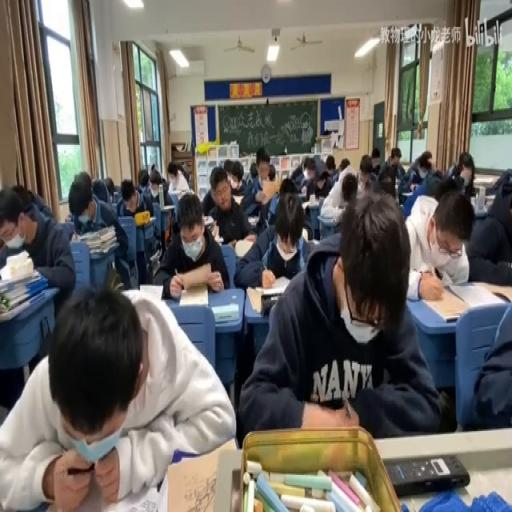calculator: (165, 445, 229, 512), (448, 280, 507, 312), (245, 281, 290, 313), (176, 283, 208, 304), (136, 282, 164, 302), (212, 302, 238, 322), (234, 236, 256, 258), (318, 205, 341, 225), (136, 214, 157, 228), (209, 222, 219, 240), (230, 193, 244, 205), (149, 248, 160, 263), (246, 215, 260, 226), (170, 188, 188, 196), (202, 215, 214, 226), (301, 199, 313, 209), (306, 236, 318, 245), (394, 179, 400, 196), (402, 189, 414, 196), (160, 204, 174, 210), (300, 184, 307, 194)
paper: (3, 277, 234, 509), (240, 189, 438, 444), (0, 184, 77, 334), (155, 192, 229, 299), (403, 186, 473, 298), (69, 172, 131, 292), (466, 174, 512, 284), (244, 158, 274, 222), (400, 146, 435, 194), (201, 159, 226, 216), (117, 176, 149, 218), (145, 165, 174, 209), (304, 160, 334, 200), (378, 145, 403, 184), (453, 154, 475, 198), (431, 175, 458, 202), (30, 189, 54, 218), (12, 182, 34, 212), (339, 170, 358, 204), (230, 159, 244, 191), (278, 178, 298, 196), (59, 218, 75, 240), (102, 176, 116, 200), (358, 158, 372, 182), (370, 145, 382, 168), (179, 164, 190, 188), (338, 156, 350, 174), (138, 166, 148, 186), (222, 160, 233, 176), (248, 162, 258, 179), (167, 171, 177, 186), (267, 164, 276, 180), (426, 156, 436, 168), (112, 189, 118, 202)
person: (386, 452, 470, 496)
